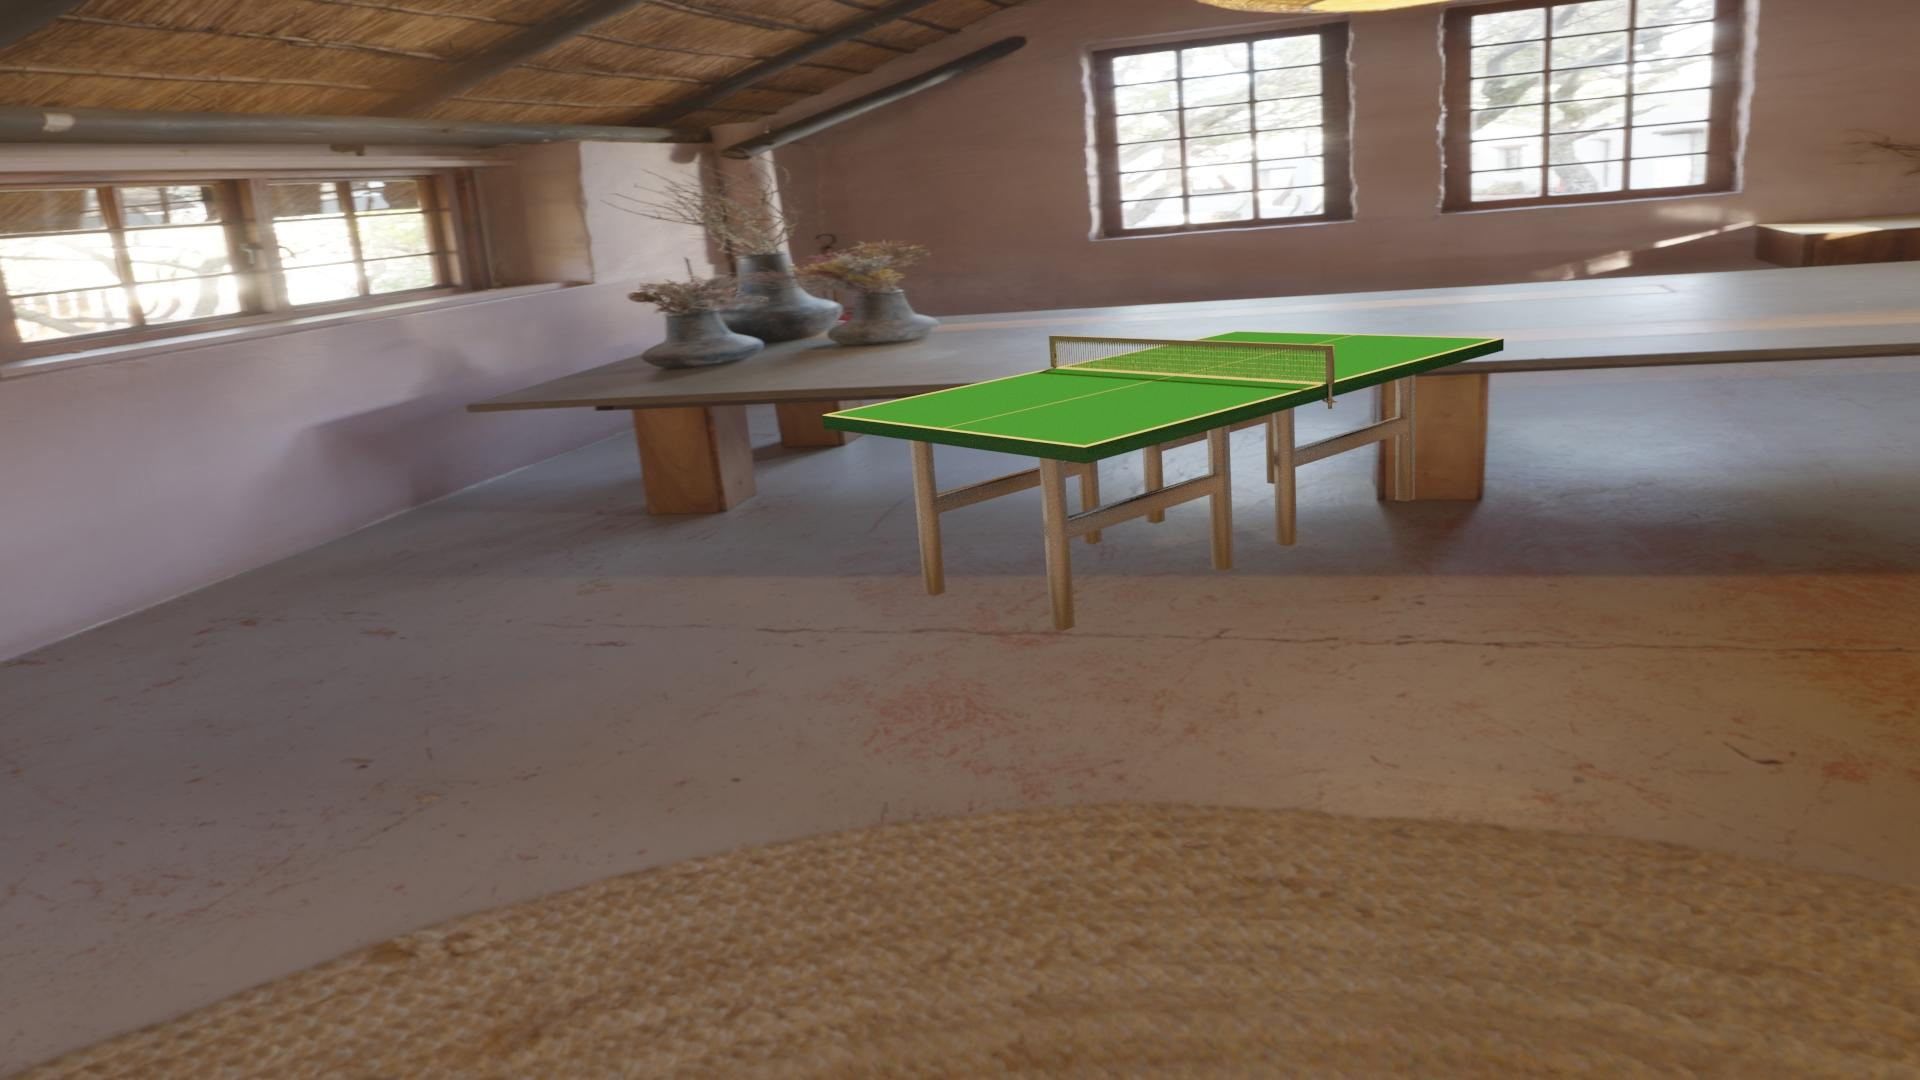table: (829, 331, 1498, 446)
